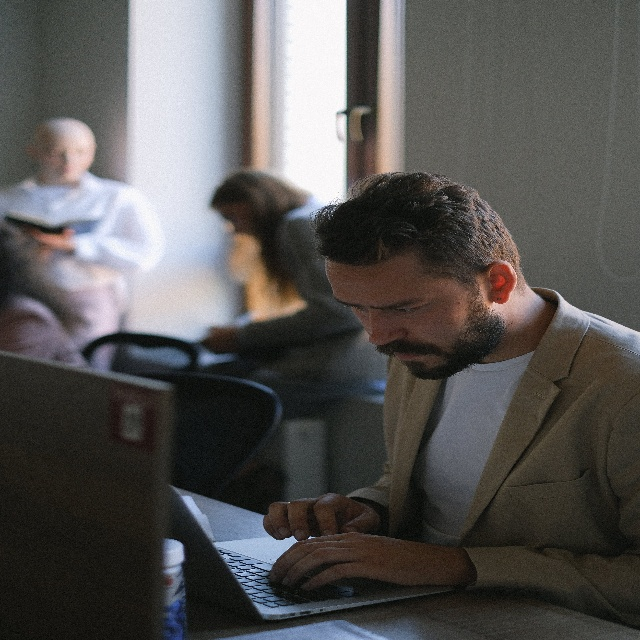Sin_guantes: (272, 534, 449, 600), (262, 494, 377, 542), (203, 325, 239, 353)
